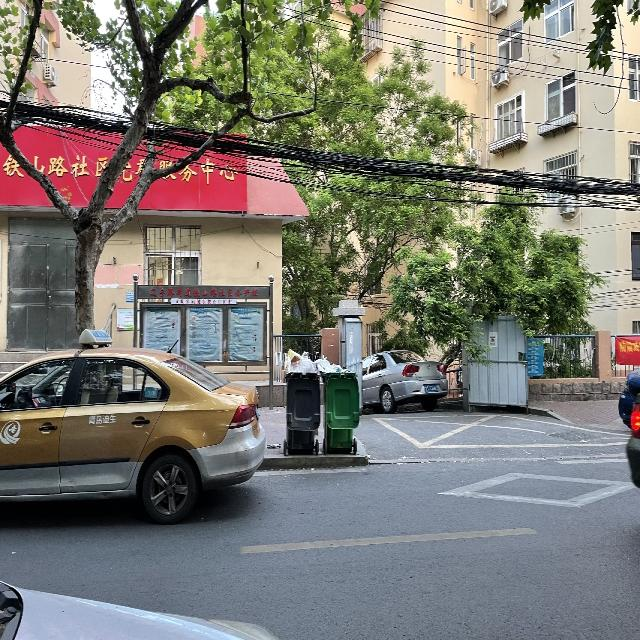overflow: (282, 347, 320, 455), (318, 355, 359, 453)
